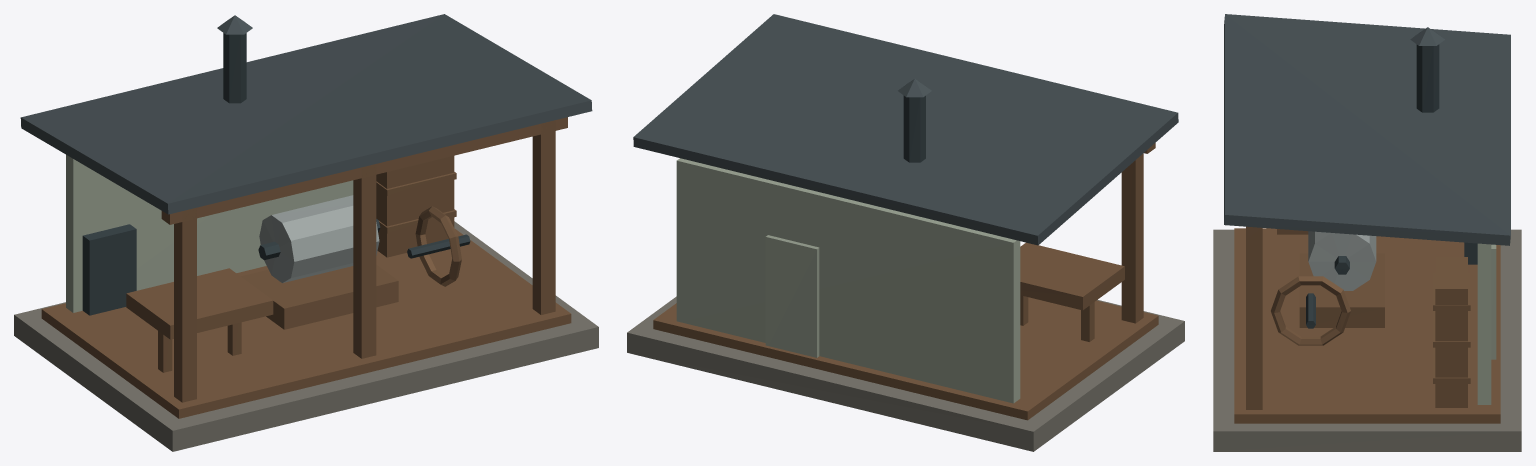
Rendered from wool-workshop.source.glb.
3 renders of one model, left to right at view 1: azimuth 30°, elevation 25°; view 2: azimuth 150°, elevation 25°; view 3: azimuth 270°, elevation 25°, orthographic. The views are drawn at different scales.
Visible parts, largest first — view 1: wool-workshop-shallow-charcoal-workshop-roof-mesh, wool-workshop-clean-dry-work-floor-mesh, wool-workshop-low-dry-stone-curb-mesh, wool-workshop-semi-enclosed-sage-rear-wall-mesh, wool-workshop-slender-timber-post-mesh (×3), wool-workshop-horizontal-empty-carding-drum-mesh, wool-workshop-empty-wool-input-table-cue-mesh, wool-workshop-sturdy-empty-carding-bench-mesh, wool-workshop-empty-clean-output-shelf-mesh, wool-workshop-front-timber-roof-beam-mesh, wool-workshop-small-dark-power-cabinet-mesh, wool-workshop-thin-ventilation-stack-mesh (+3 smaller); view 2: wool-workshop-shallow-charcoal-workshop-roof-mesh, wool-workshop-semi-enclosed-sage-rear-wall-mesh, wool-workshop-low-dry-stone-curb-mesh, wool-workshop-clean-dry-work-floor-mesh, wool-workshop-small-service-door-mesh, wool-workshop-empty-wool-input-table-cue-mesh, wool-workshop-slender-timber-post-mesh, wool-workshop-thin-ventilation-stack-mesh; view 3: wool-workshop-shallow-charcoal-workshop-roof-mesh, wool-workshop-clean-dry-work-floor-mesh, wool-workshop-low-dry-stone-curb-mesh, wool-workshop-empty-clean-output-shelf-mesh, wool-workshop-sturdy-empty-carding-bench-mesh, wool-workshop-horizontal-empty-carding-drum-mesh, wool-workshop-slender-timber-post-mesh, wool-workshop-semi-enclosed-sage-rear-wall-mesh, wool-workshop-simple-spinning-wheel-cue-mesh, wool-workshop-thin-ventilation-stack-mesh, wool-workshop-clean-textile-output-shelf-level-mesh (×3), wool-workshop-small-service-door-mesh (+2 smaller).
Boxes of the visible parts, x1=… form: wool-workshop-shallow-charcoal-workshop-roof-mesh: x1=20, y1=14, x2=592, y2=214; wool-workshop-clean-dry-work-floor-mesh: x1=41, y1=228, x2=571, y2=418; wool-workshop-low-dry-stone-curb-mesh: x1=14, y1=221, x2=598, y2=451; wool-workshop-semi-enclosed-sage-rear-wall-mesh: x1=66, y1=155, x2=353, y2=312; wool-workshop-slender-timber-post-mesh (×3): x1=174, y1=120, x2=555, y2=402; wool-workshop-horizontal-empty-carding-drum-mesh: x1=259, y1=195, x2=379, y2=283; wool-workshop-empty-wool-input-table-cue-mesh: x1=126, y1=268, x2=273, y2=339; wool-workshop-sturdy-empty-carding-bench-mesh: x1=241, y1=265, x2=398, y2=329; wool-workshop-empty-clean-output-shelf-mesh: x1=376, y1=156, x2=454, y2=257; wool-workshop-front-timber-roof-beam-mesh: x1=161, y1=117, x2=567, y2=224; wool-workshop-small-dark-power-cabinet-mesh: x1=82, y1=224, x2=136, y2=315; wool-workshop-thin-ventilation-stack-mesh: x1=223, y1=33, x2=246, y2=103; wool-workshop-shallow-charcoal-workshop-roof-mesh: x1=633, y1=14, x2=1178, y2=245; wool-workshop-semi-enclosed-sage-rear-wall-mesh: x1=676, y1=158, x2=1020, y2=403; wool-workshop-low-dry-stone-curb-mesh: x1=627, y1=296, x2=1184, y2=451; wool-workshop-clean-dry-work-floor-mesh: x1=653, y1=297, x2=1158, y2=420; wool-workshop-small-service-door-mesh: x1=765, y1=235, x2=819, y2=357; wool-workshop-empty-wool-input-table-cue-mesh: x1=1020, y1=242, x2=1124, y2=310; wool-workshop-slender-timber-post-mesh: x1=1121, y1=153, x2=1143, y2=323; wool-workshop-thin-ventilation-stack-mesh: x1=903, y1=95, x2=925, y2=162; wool-workshop-shallow-charcoal-workshop-roof-mesh: x1=1224, y1=14, x2=1510, y2=245; wool-workshop-clean-dry-work-floor-mesh: x1=1234, y1=228, x2=1500, y2=423; wool-workshop-low-dry-stone-curb-mesh: x1=1213, y1=229, x2=1521, y2=451; wool-workshop-empty-clean-output-shelf-mesh: x1=1435, y1=257, x2=1467, y2=407; wool-workshop-sturdy-empty-carding-bench-mesh: x1=1299, y1=253, x2=1384, y2=327; wool-workshop-horizontal-empty-carding-drum-mesh: x1=1308, y1=231, x2=1376, y2=290; wool-workshop-slender-timber-post-mesh: x1=1246, y1=240, x2=1262, y2=409; wool-workshop-semi-enclosed-sage-rear-wall-mesh: x1=1477, y1=243, x2=1491, y2=404; wool-workshop-simple-spinning-wheel-cue-mesh: x1=1271, y1=276, x2=1350, y2=345; wool-workshop-thin-ventilation-stack-mesh: x1=1416, y1=44, x2=1439, y2=112; wool-workshop-clean-textile-output-shelf-level-mesh (×3): x1=1433, y1=272, x2=1470, y2=383; wool-workshop-small-service-door-mesh: x1=1491, y1=244, x2=1496, y2=359.
Bounding box in the file's own units: 3.8 × 2.68 × 2.45.
